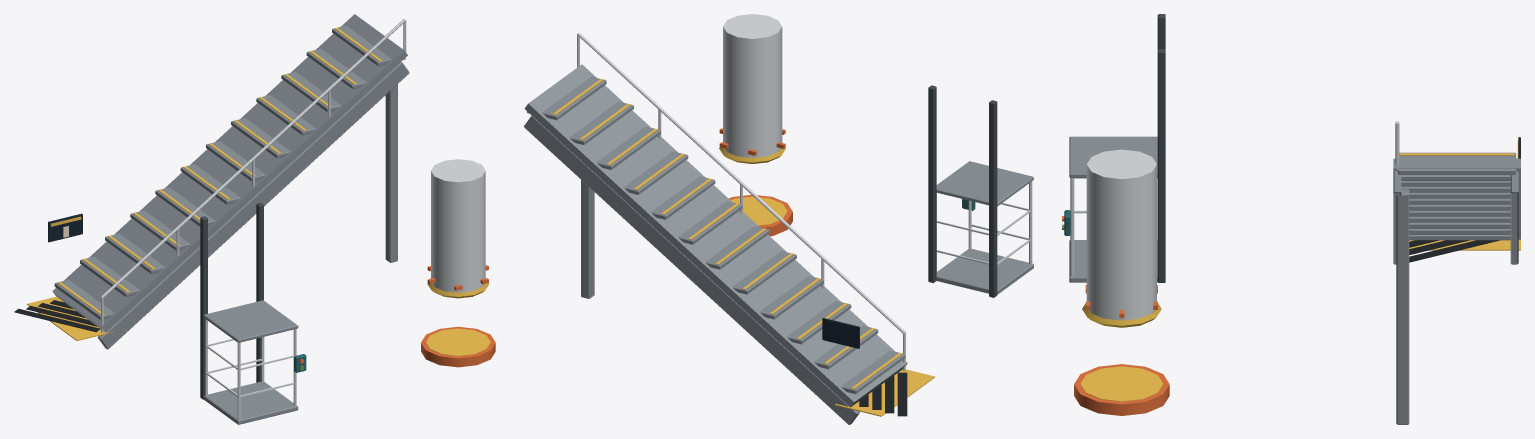
File: Kit_Shaft_L3.fbx
3 views of the same model, side by side, from view 1: azimuth 30°, elevation 25°; view 2: azimuth 150°, elevation 25°; view 3: azimuth 270°, elevation 25° (orthographic). The views are drawn at different scales.
Visible parts, largest first — view 1: Decor, StairRamp, LiftCar, Stringers, LiftRails, ChutePad; view 2: Decor, StairRamp, LiftRails, LiftCar, Stringers, ChutePad; view 3: Decor, Stringers, LiftRails, ChutePad, StairRamp, LiftCar.
Part boxes in pixels (x1,y1,x2,y2): Decor: (14,19,490,419); StairRamp: (52,14,407,332); LiftCar: (203,381,298,424); Stringers: (385,84,397,262); LiftRails: (200,202,263,399); ChutePad: (421,326,495,367); Decor: (524,14,1033,424); StairRamp: (524,64,907,407); LiftRails: (928,85,997,297); LiftCar: (936,249,1033,294); Stringers: (581,180,594,298); ChutePad: (729,194,792,236); Decor: (1062,121,1520,401); Stringers: (1396,189,1409,424); LiftRails: (1157,14,1165,282); ChutePad: (1074,364,1169,415); StairRamp: (1393,158,1520,239); LiftCar: (1069,240,1157,282).
Bounding box in the file's own units: 32.54 × 22.75 × 28.75.
